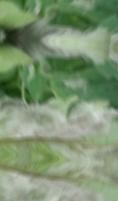Tomato leaf late blight: (0, 75, 118, 169)
